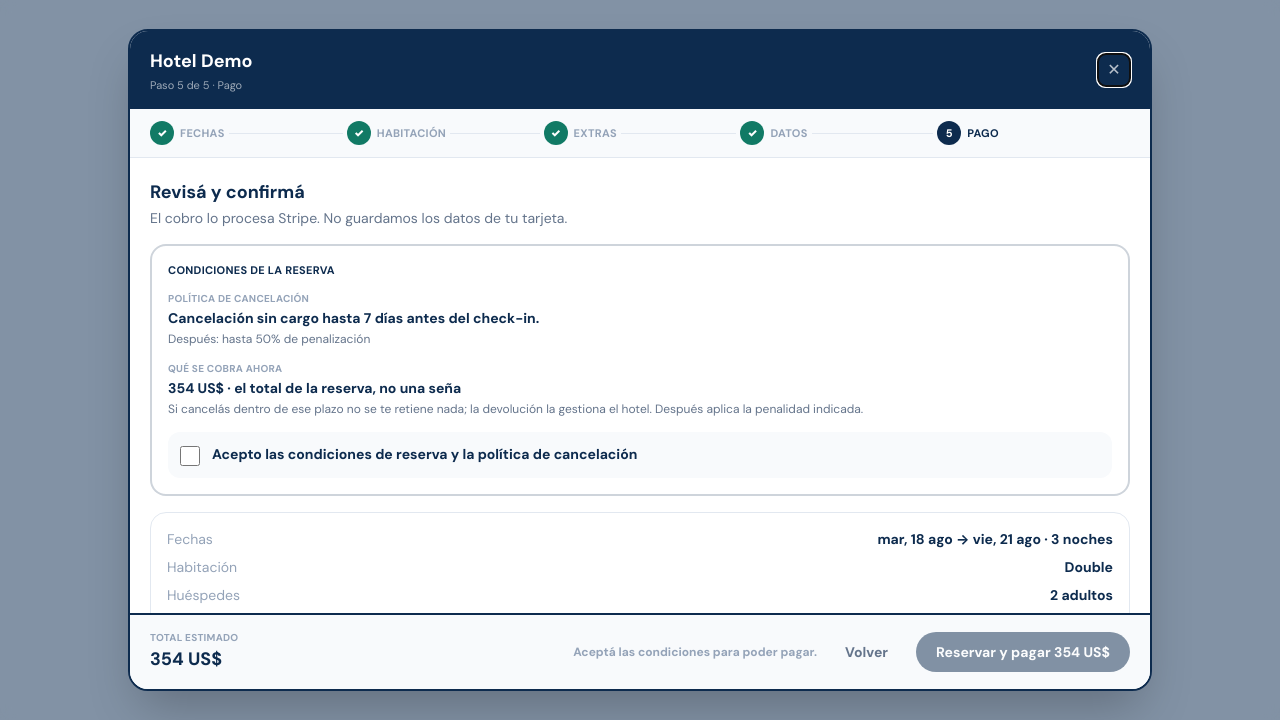
BookingModal — condiciones y aceptación previas al pago › con la casilla tildada habilita el pago y cobra
Click the checkbox with test id "accept-terms": (190, 456) [180,446,200,466]
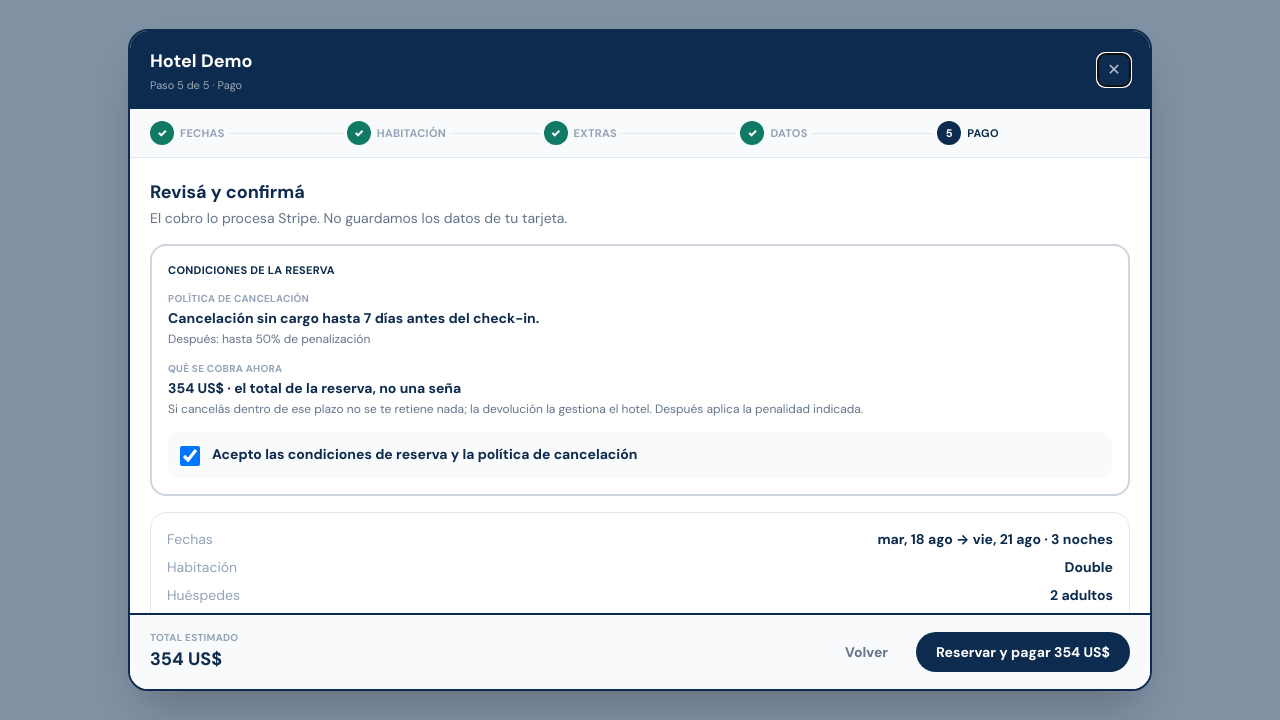
Expected: the button "Reservar y pagar 354 US$" is enabled, [916,632,1130,672]
